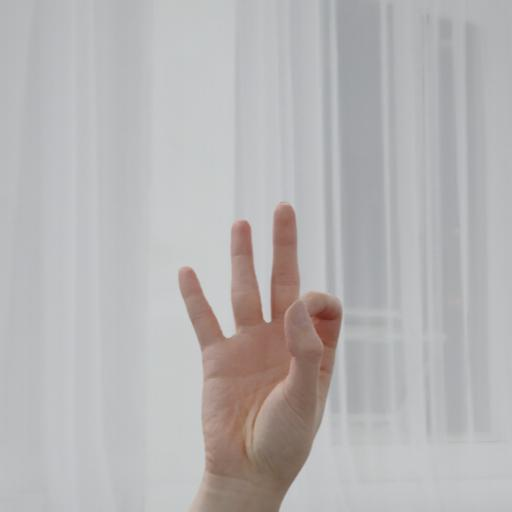F: (162, 197, 349, 482)
